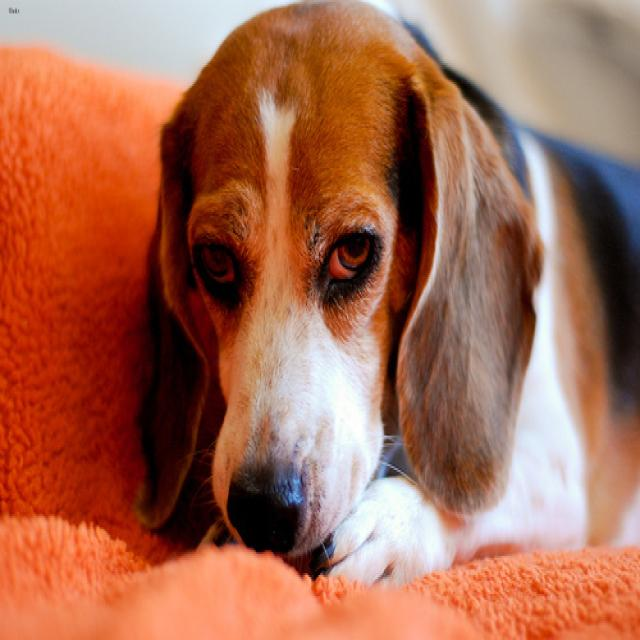dog-beagle: (125, 2, 637, 611)
